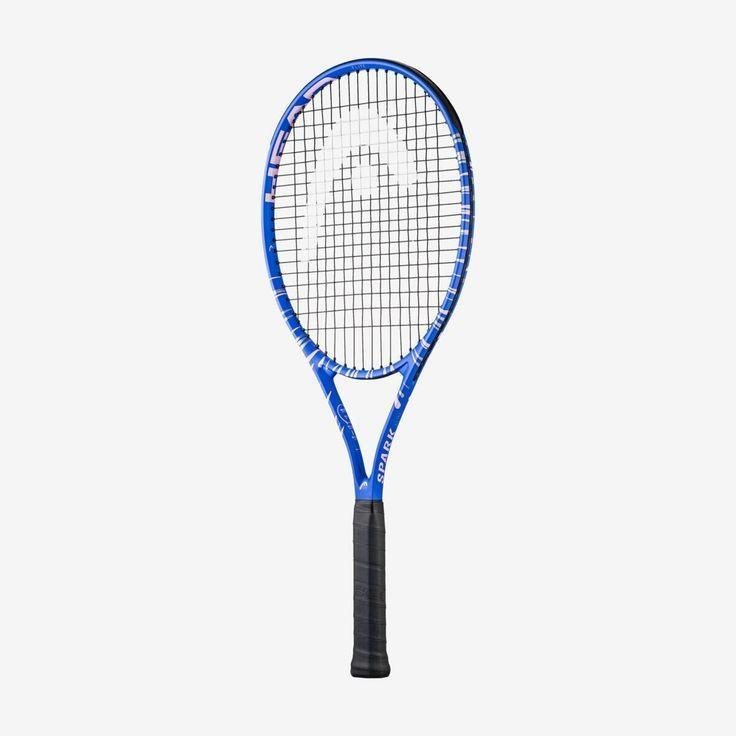Tennis-Racket: (250, 41, 475, 686)
